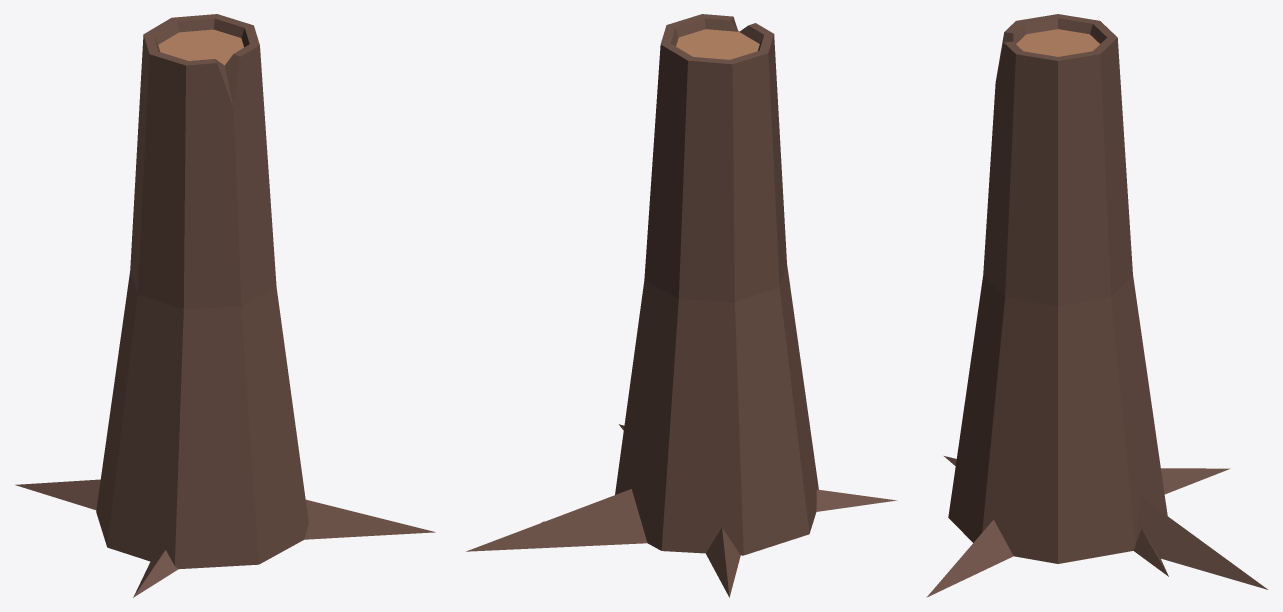
Rendered from CutTree.fbx.
The picture shows the model from 3 angles, left to right: view 1: azimuth 30°, elevation 25°; view 2: azimuth 150°, elevation 25°; view 3: azimuth 270°, elevation 25°; orthographic projection. The views are drawn at different scales.
Parts seen in each view (by area): view 1: CutTree; view 2: CutTree; view 3: CutTree.
Boxes of the visible parts, left/top/right/bottom form: CutTree: left=15, top=14, right=435, bottom=597; CutTree: left=466, top=14, right=897, bottom=597; CutTree: left=926, top=14, right=1267, bottom=597.
Size of the model in its own units: 62.87 by 99.06 by 64.
